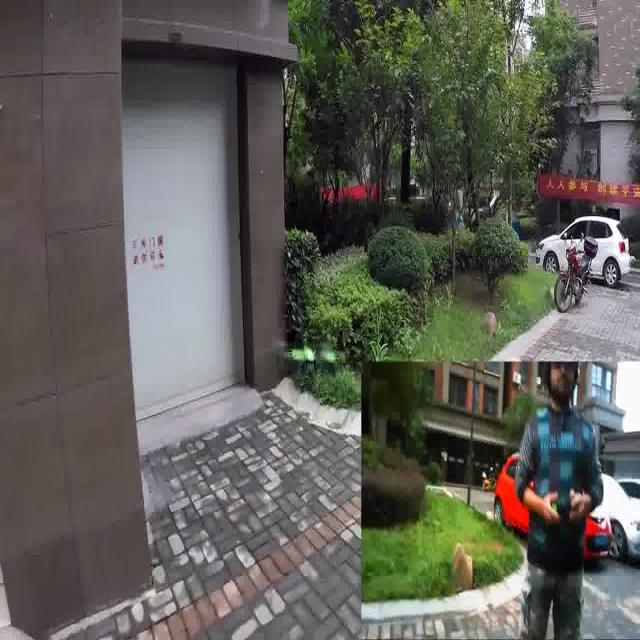drones: (249, 324, 351, 389)
